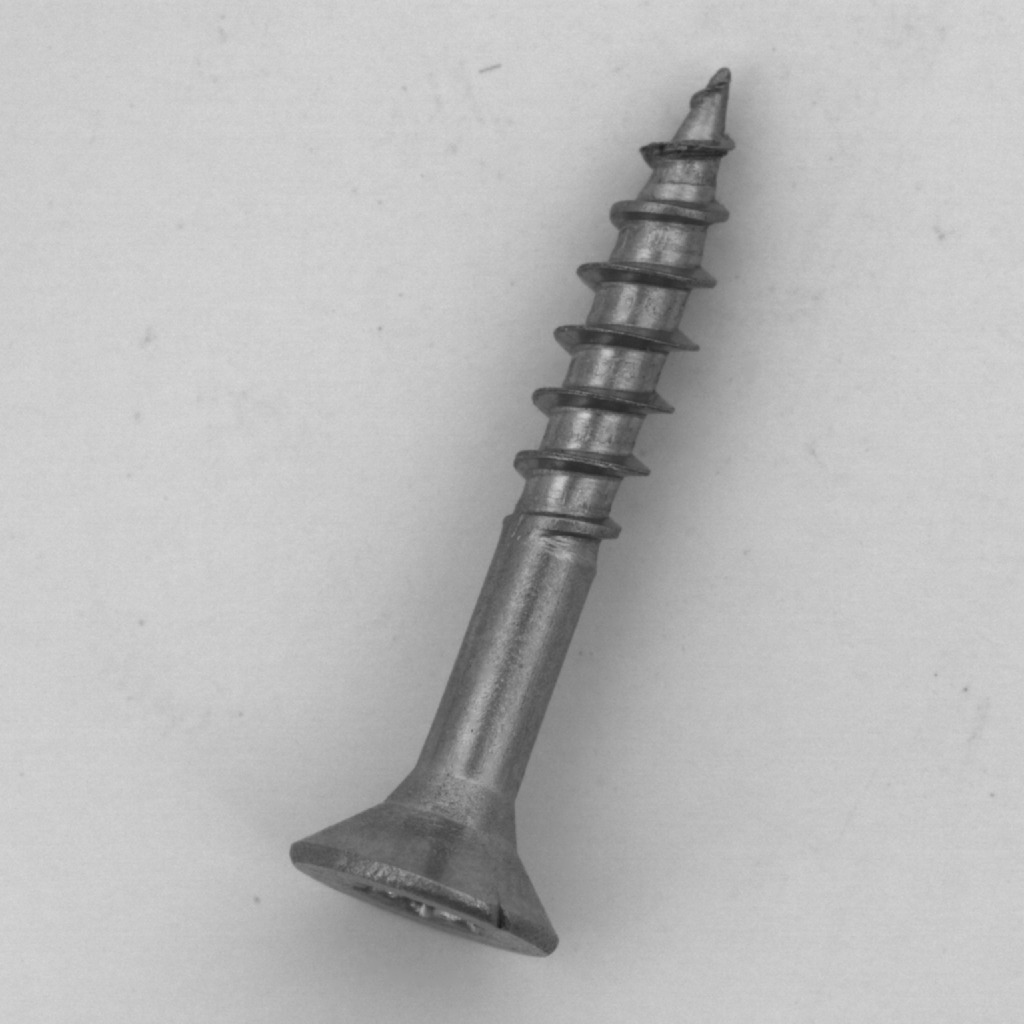good: (266, 47, 788, 977)
